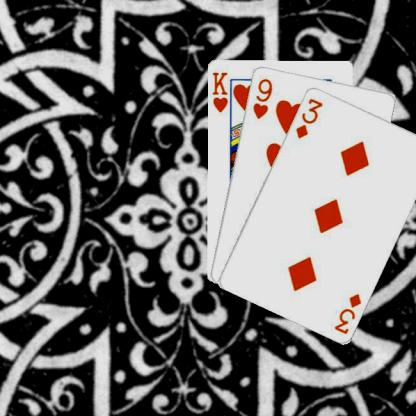3D: (292, 95, 324, 140), (331, 290, 362, 336)
9H: (250, 75, 273, 120)
KH: (210, 69, 228, 113)
